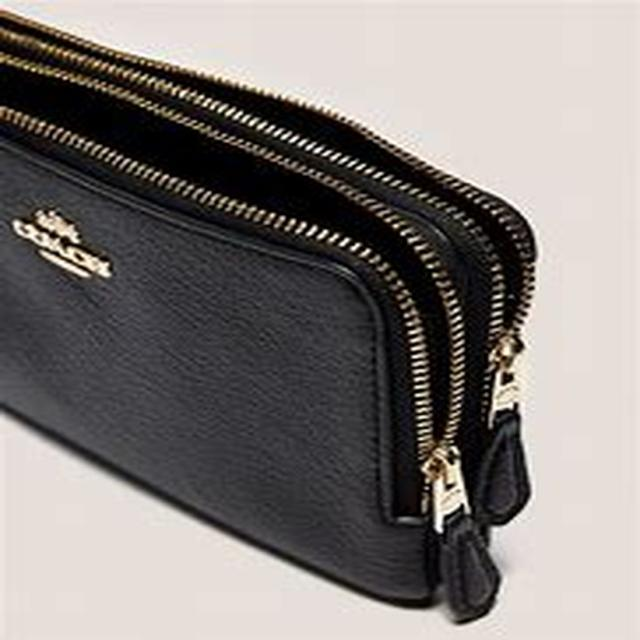wallet: (0, 4, 567, 637)
